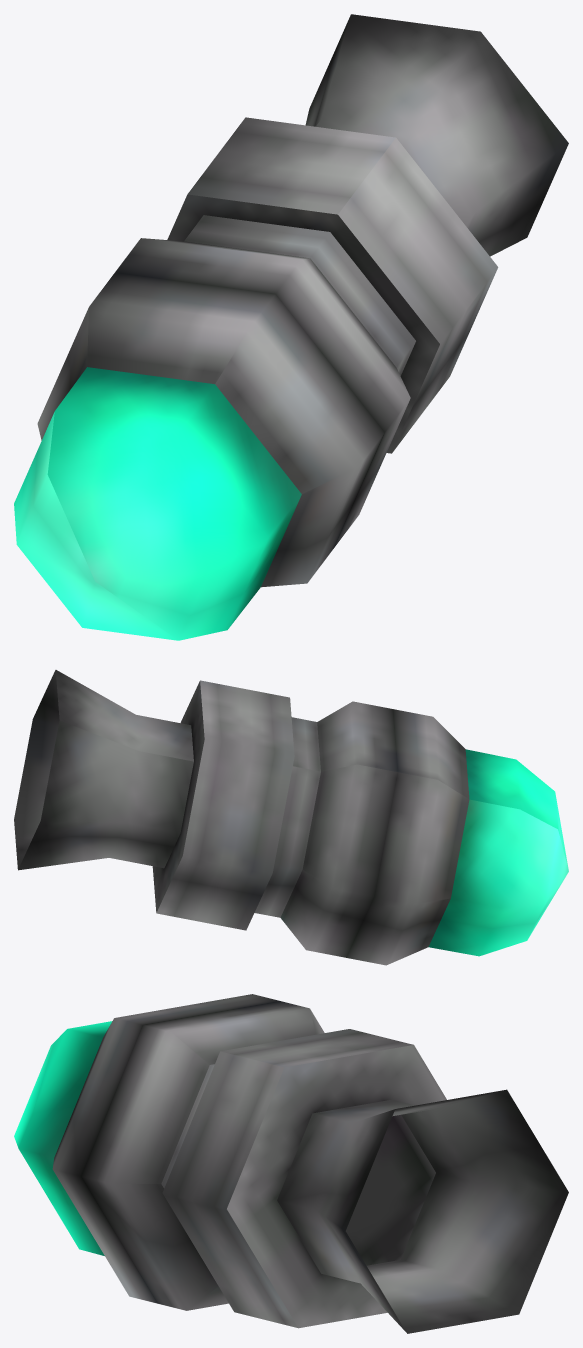
3 views of the same model, one above another, from view 1: azimuth 30°, elevation 25°; view 2: azimuth 150°, elevation 25°; view 3: azimuth 270°, elevation 25° (orthographic). The views are drawn at different scales.
Parts seen in each view (by area): view 1: Radium magazines | extracted from radium-carbine; view 2: Radium magazines | extracted from radium-carbine; view 3: Radium magazines | extracted from radium-carbine.
Boxes of the visible parts, left/top/right/bottom form: Radium magazines | extracted from radium-carbine: left=14, top=14, right=568, bottom=640; Radium magazines | extracted from radium-carbine: left=14, top=670, right=568, bottom=965; Radium magazines | extracted from radium-carbine: left=14, top=994, right=568, bottom=1333.
Size of the model in its own units: 1.22 by 0.6869 by 1.01.
Materials: 1 (1 with a texture image).
